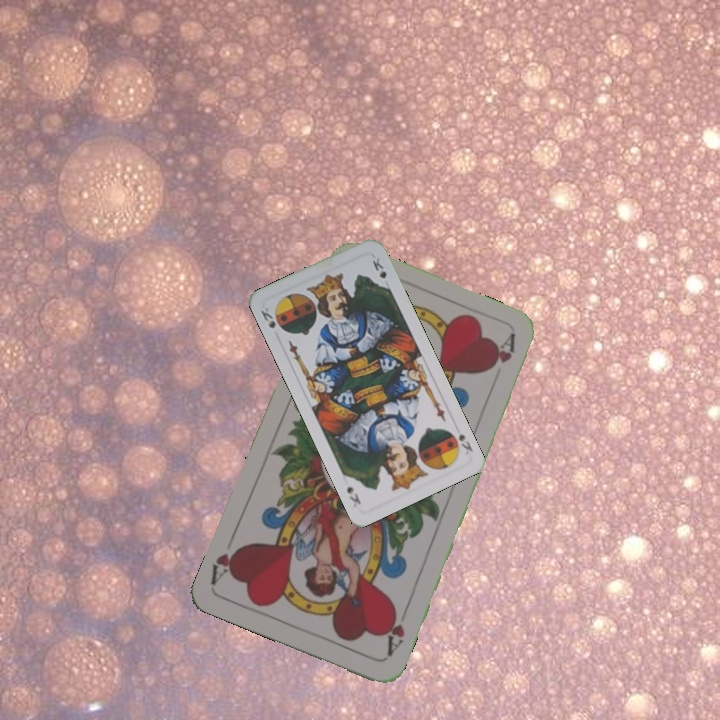HA: (381, 603, 411, 659)
SK: (454, 428, 475, 457), (257, 303, 278, 331)
